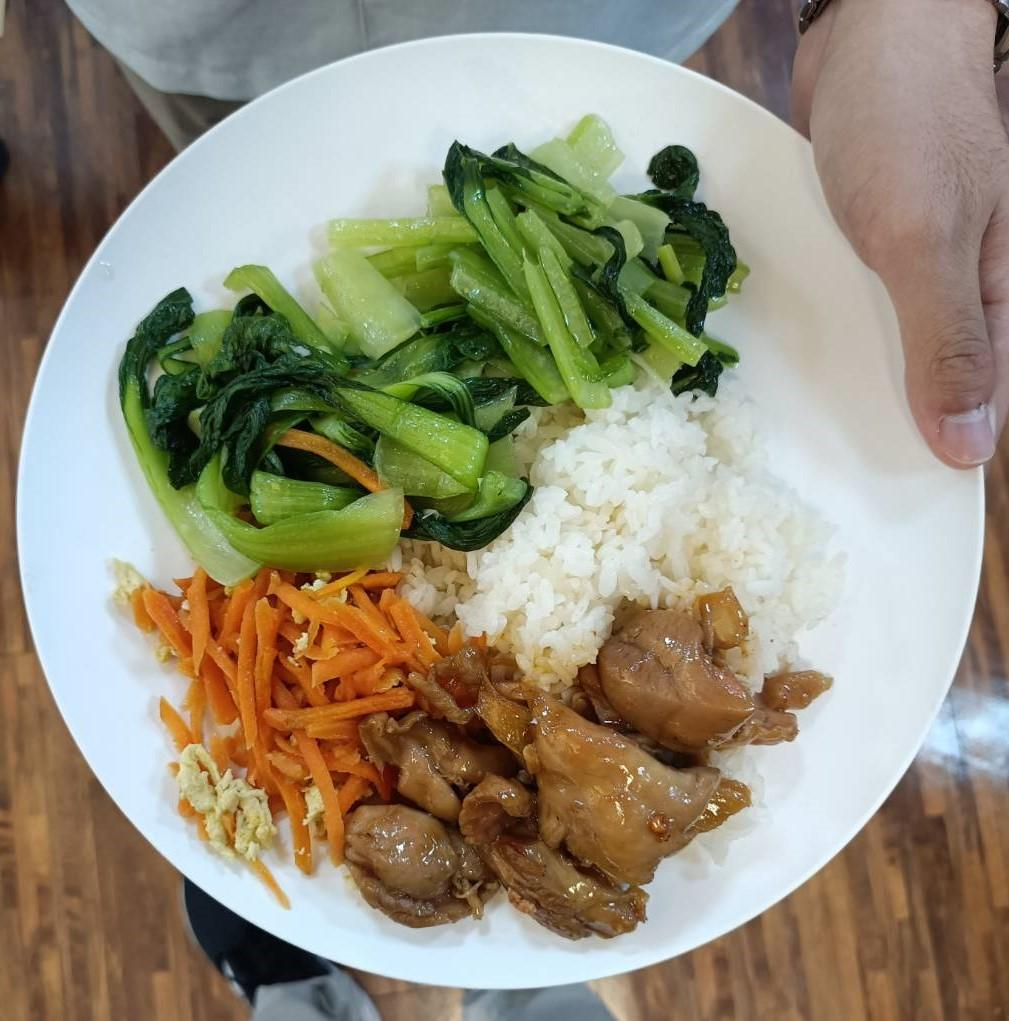big fried chicken leg: (13, 33, 998, 998)
big herbal chicken leg: (408, 391, 833, 678)
braised fish fillet: (108, 121, 743, 552), (122, 563, 460, 862)
braised pork: (334, 610, 810, 936)
